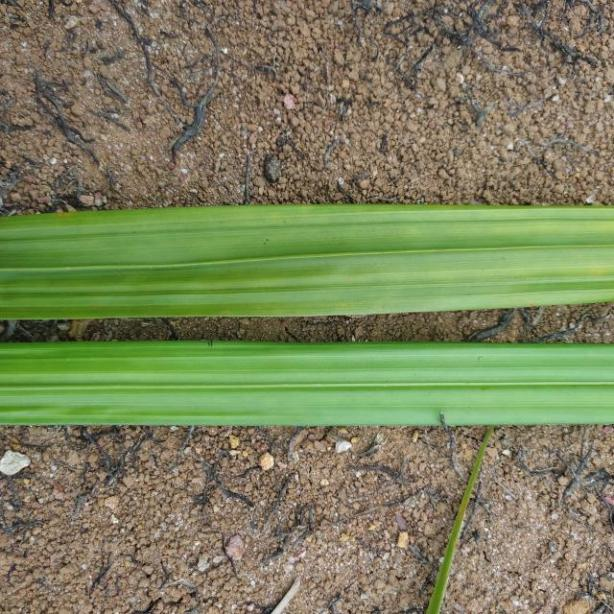nitrogen: (0, 202, 614, 322), (0, 339, 614, 430)
